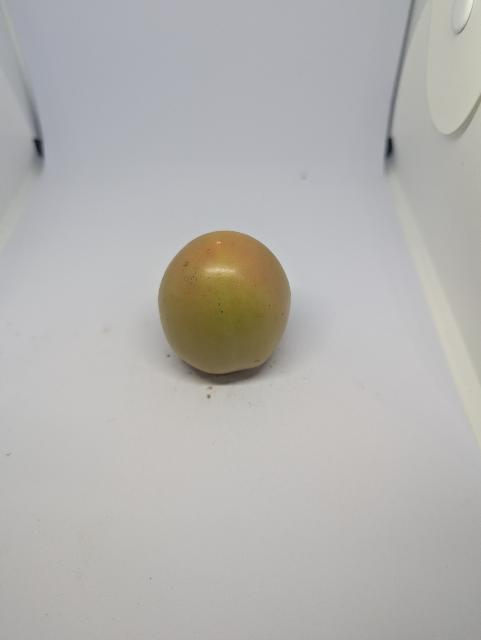breaker: (154, 226, 296, 387)
